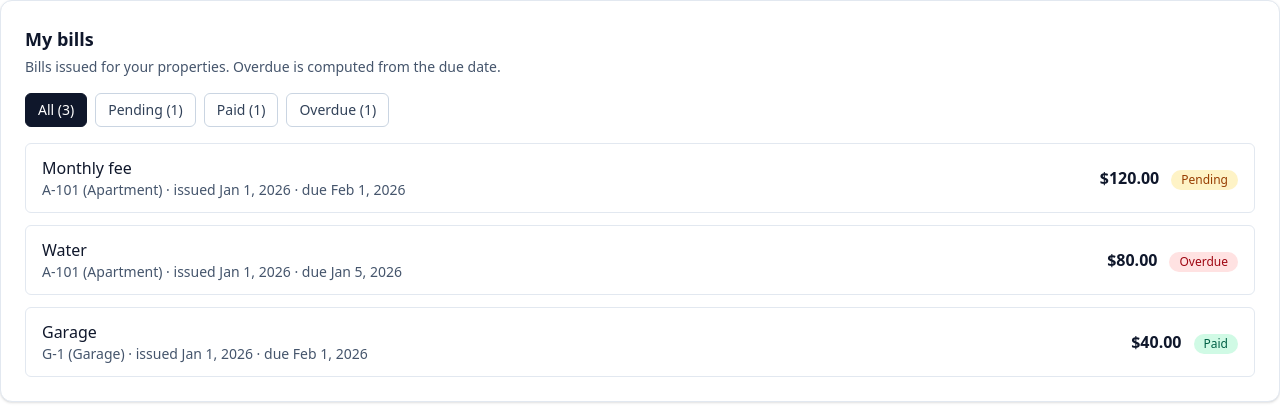
Test: MyBillsSection › filters to the computed overdue status when its tab is clicked
expect the list item with test id "bill-1" is shown: met, box [25,143,1255,213]
Step 1. Click the button "Overdue (1)" → (338, 110), box [286,93,389,127]
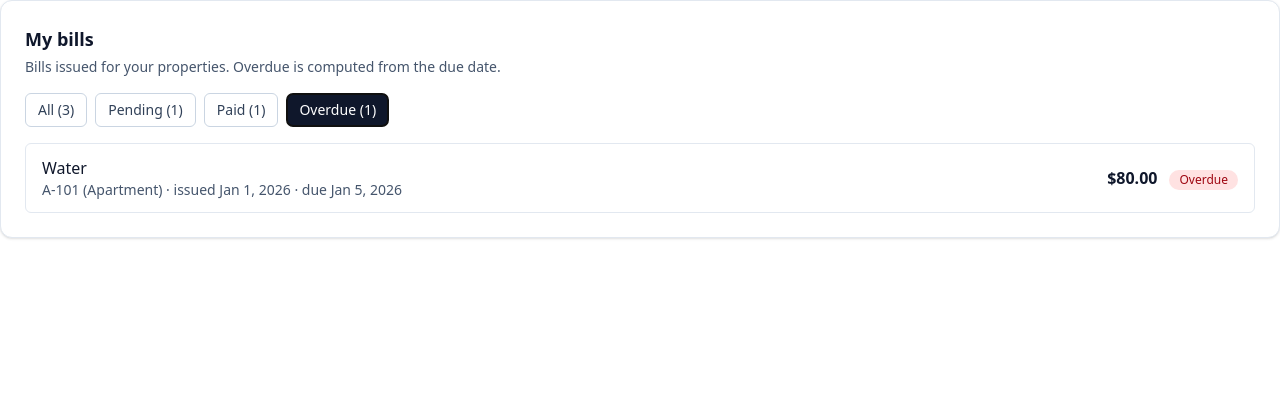
expect the list item with test id "bill-2" is shown: met, box [25,143,1255,213]
expect the list item with test id "bill-1" is gone: met
expect the list item with test id "bill-3" is gone: met
